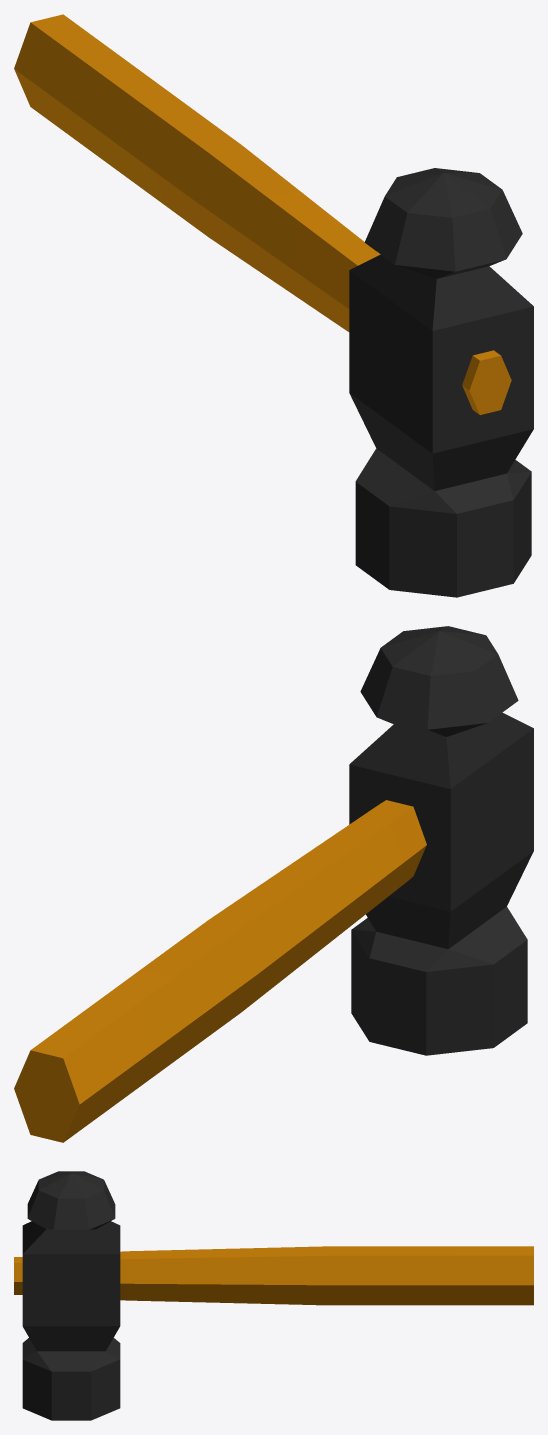
File: SM_Tool_Hammer_Mallet.fbx
The picture shows the model from 3 angles, top to bottom: view 1: azimuth 30°, elevation 25°; view 2: azimuth 150°, elevation 25°; view 3: azimuth 270°, elevation 25°; orthographic projection. The views are drawn at different scales.
Visible parts, largest first — view 1: SM_Tool_Hammer_Mallet; view 2: SM_Tool_Hammer_Mallet; view 3: SM_Tool_Hammer_Mallet.
Part boxes in pixels (x1,y1,x2,y2): SM_Tool_Hammer_Mallet: (14, 14, 533, 597); SM_Tool_Hammer_Mallet: (14, 626, 533, 1142); SM_Tool_Hammer_Mallet: (14, 1171, 533, 1420).
Size of the model in its own units: 8.86 by 23.02 by 47.82.
1 material, 1 textured.
